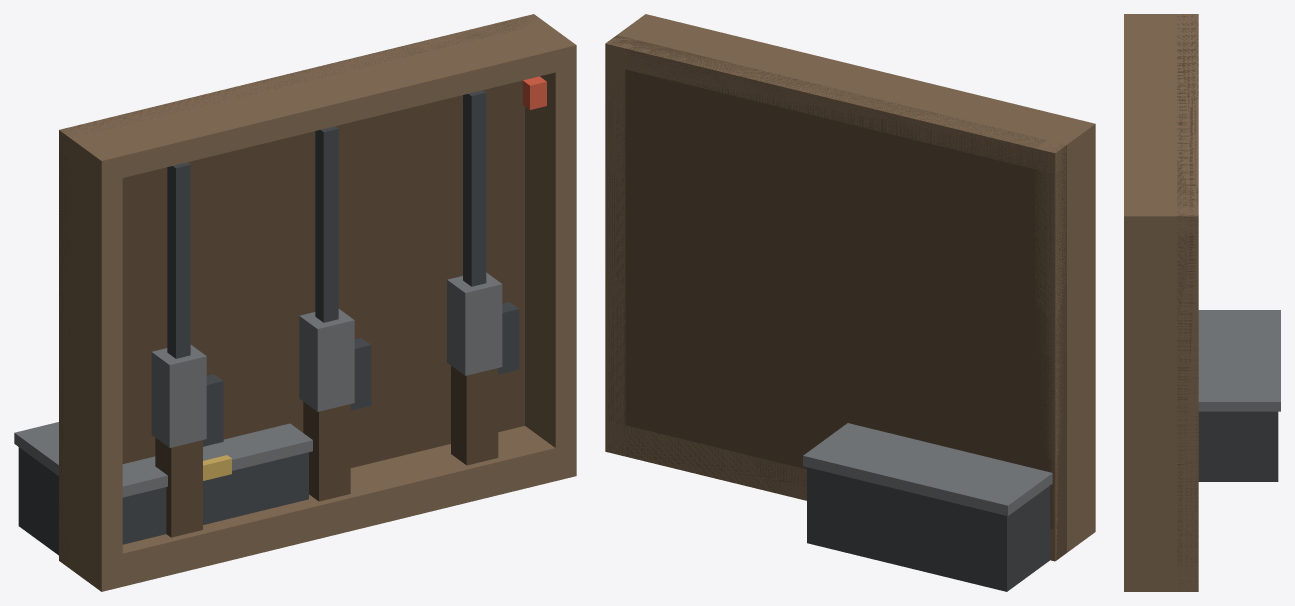
File: ratelier.glb
The picture shows the model from 3 angles, left to right: view 1: azimuth 30°, elevation 25°; view 2: azimuth 150°, elevation 25°; view 3: azimuth 270°, elevation 25°; orthographic projection. The views are drawn at different scales.
Parts seen in each view (by area): view 1: ratelier; view 2: ratelier; view 3: ratelier.
Boxes of the visible parts, bbox=[...] form: ratelier: bbox=[14, 14, 576, 591]; ratelier: bbox=[605, 14, 1095, 591]; ratelier: bbox=[1124, 14, 1280, 591].
Size of the model in its own units: 0.9 by 0.78 by 0.295.
